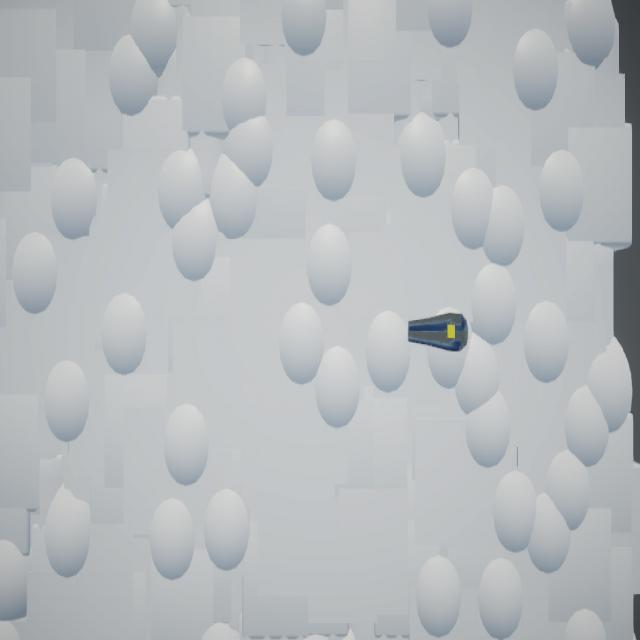handle_knife: (409, 314, 469, 352)
